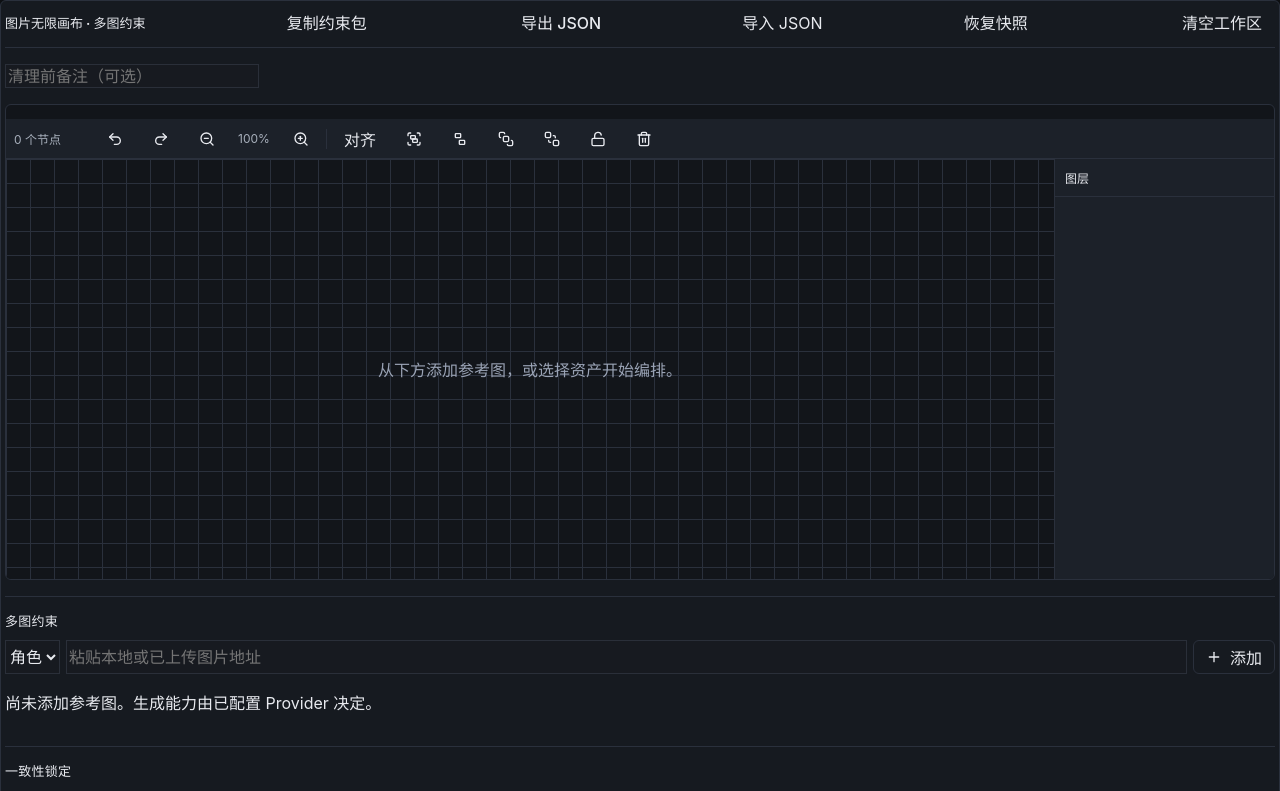
it: MultimodalDirectorWorkspace › adds semantic references to the local binding summary
Type "ref://character" into the field with placeholder "粘贴本地或已上传图片地址" at (626, 657), box [66, 640, 1187, 674]
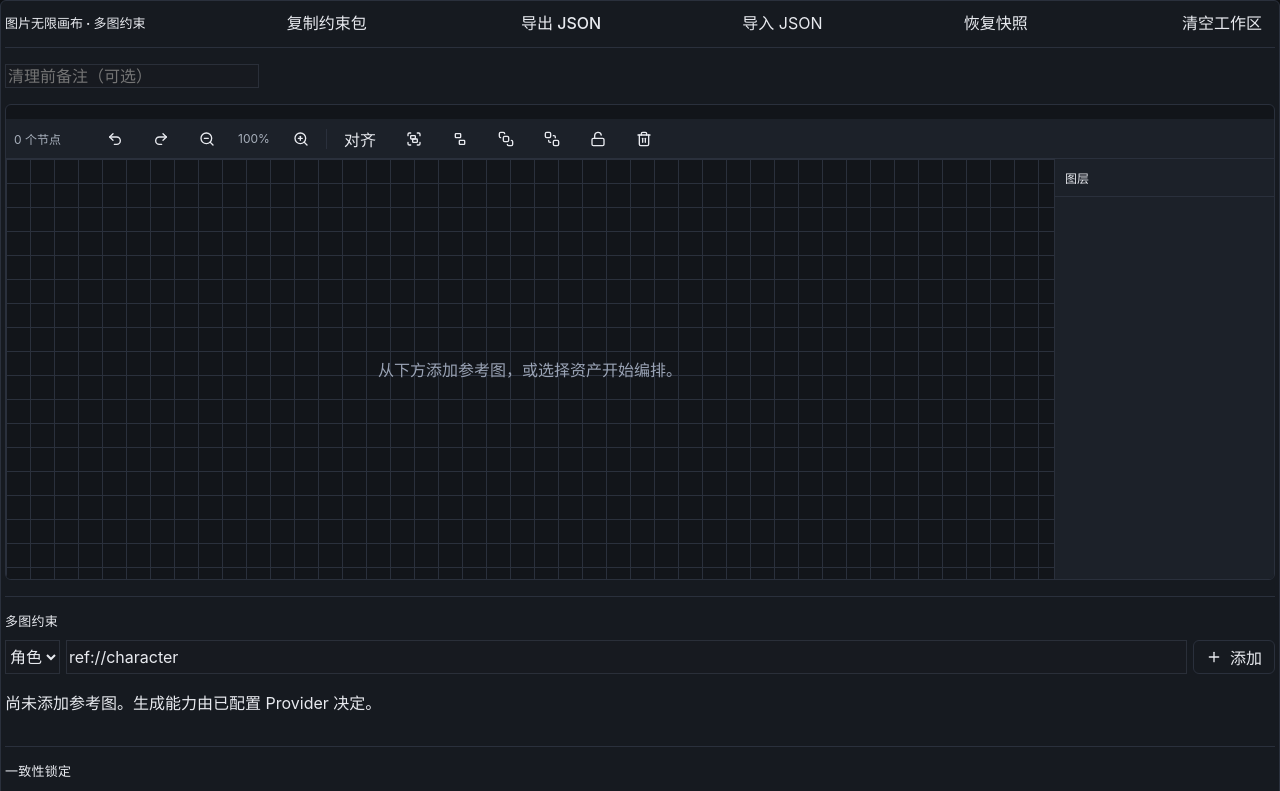
Click the button "添加" at (1234, 657), box [1193, 640, 1275, 674]
(page scrolled)
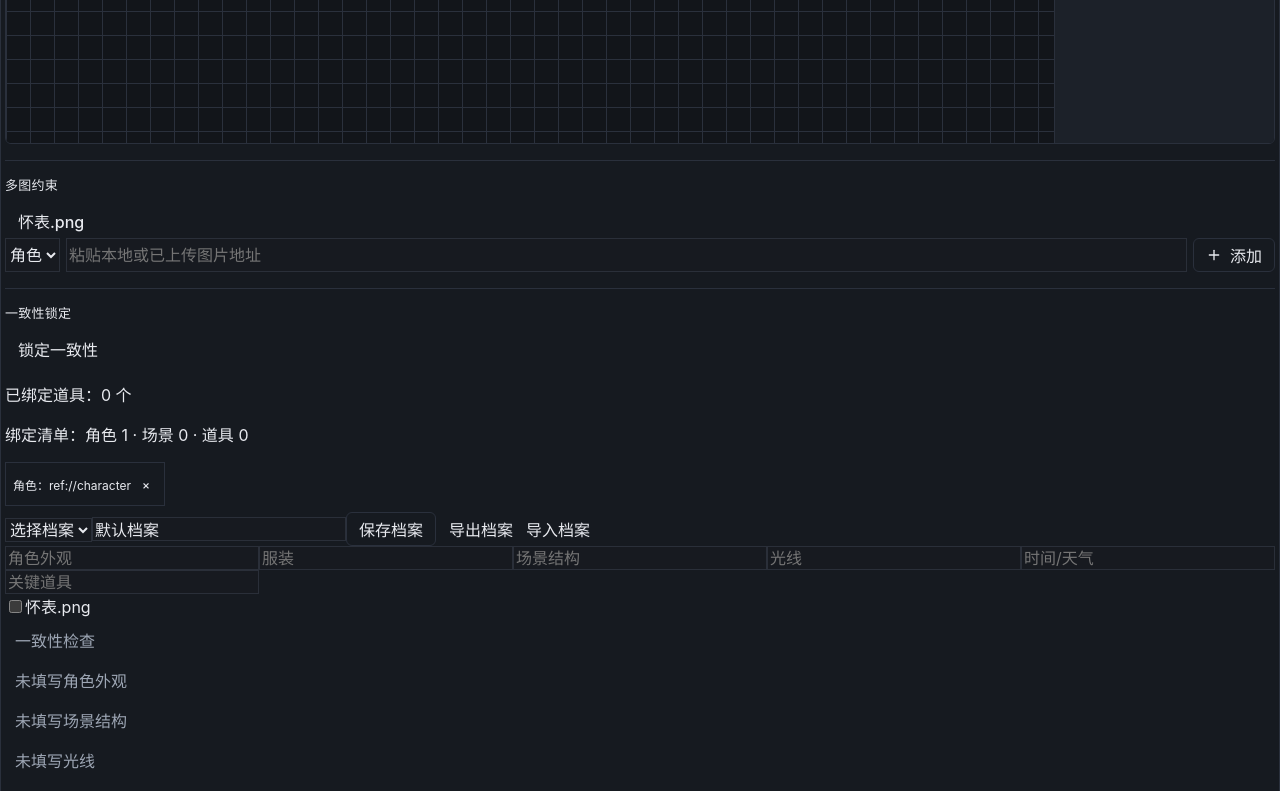
Now the text "绑定清单：角色 1 · 场景 0 · 道具 0" is shown, box [5, 425, 248, 445]
